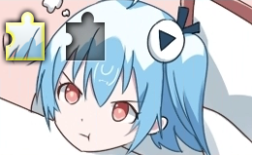gap: (65, 11, 105, 60)
